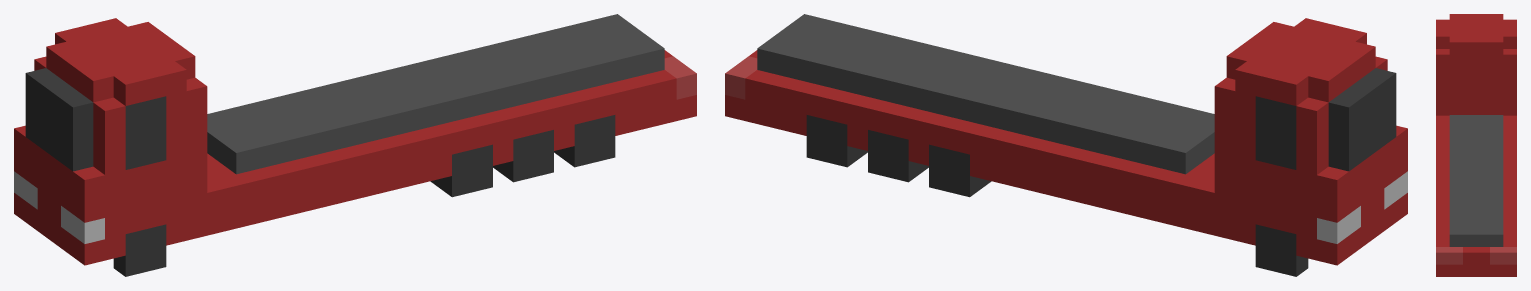
File: truck-v3-red.gltf
The picture shows the model from 3 angles, left to right: view 1: azimuth 30°, elevation 25°; view 2: azimuth 150°, elevation 25°; view 3: azimuth 270°, elevation 25°; orthographic projection. The views are drawn at different scales.
Visible parts, largest first — view 1: model, wheels; view 2: model, wheels; view 3: model.
Part boxes in pixels (x1,y1,x2,y2): model: (14,14,696,265); wheels: (113,115,615,276); model: (725,14,1407,265); wheels: (806,115,1308,276); model: (1436,14,1516,276).
Size of the model in its own units: 3 by 0.9 by 0.6.
Materials: 2 (2 with a texture image).
